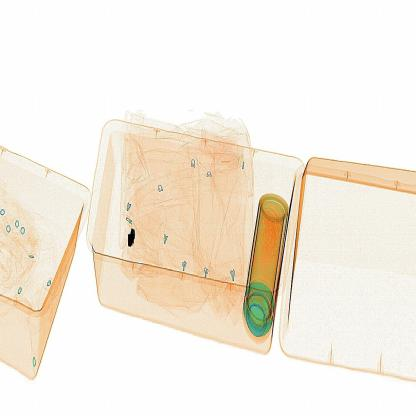knife: (116, 214, 153, 264)
